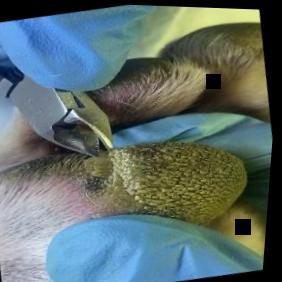keratosis: (76, 125, 264, 253)
